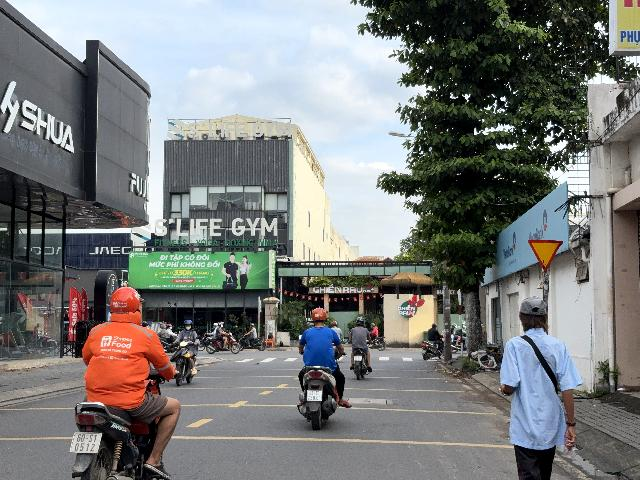giao-nhau-voi-duong-uu-tien: (527, 239, 564, 271)
